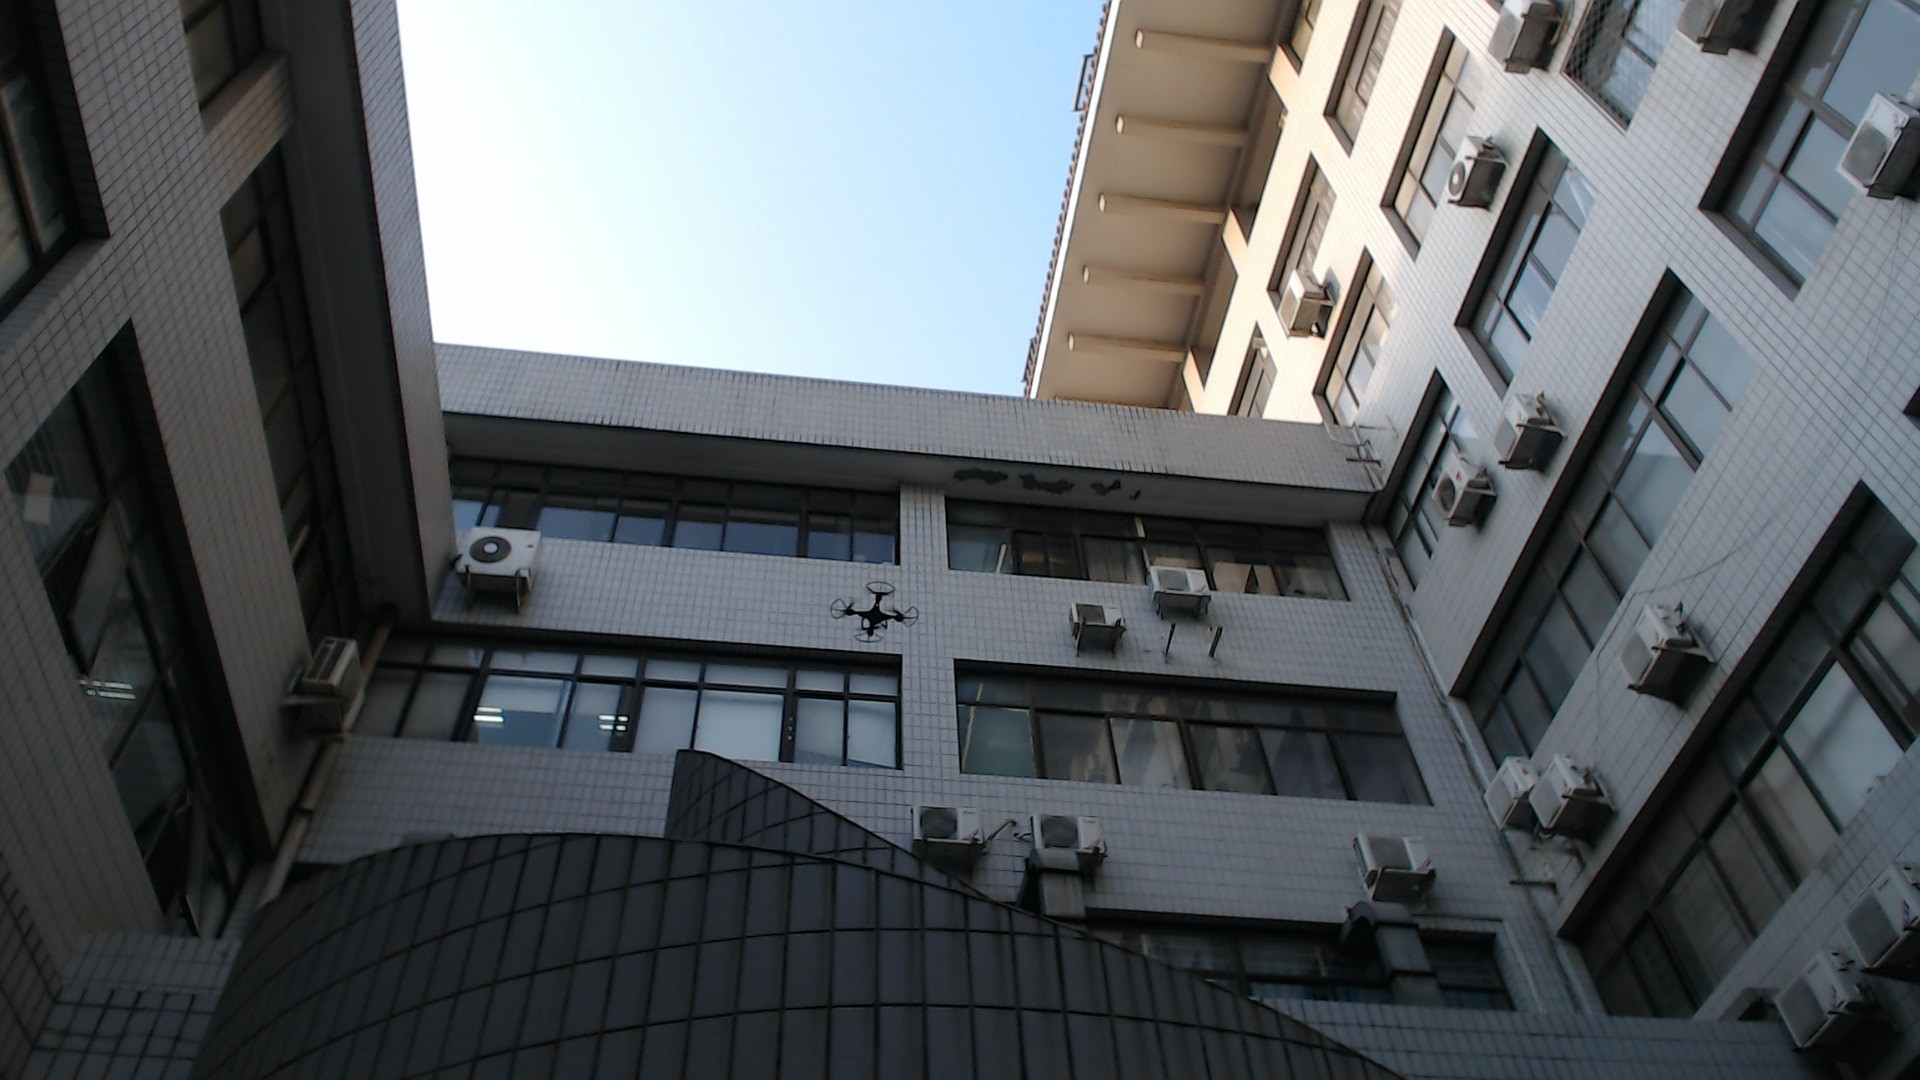drone: (825, 562, 931, 661)
